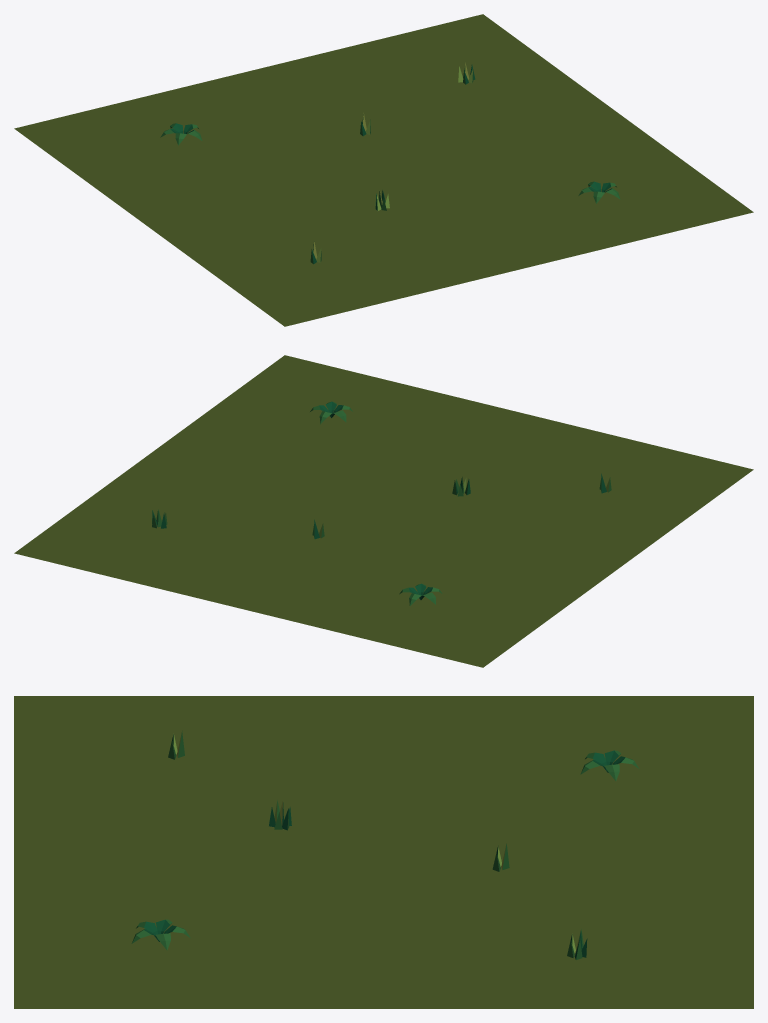
File: TB_Env_GroundBA.FBX
3 renders of one model, top to bottom at view 1: azimuth 30°, elevation 25°; view 2: azimuth 150°, elevation 25°; view 3: azimuth 270°, elevation 25°, orthographic. The views are drawn at different scales.
Parts seen in each view (by area): view 1: TB_Env_GroundBA; view 2: TB_Env_GroundBA; view 3: TB_Env_GroundBA.
Part boxes in pixels (bbox=[...]): TB_Env_GroundBA: bbox=[14, 14, 753, 326]; TB_Env_GroundBA: bbox=[14, 355, 753, 667]; TB_Env_GroundBA: bbox=[14, 696, 753, 1008].
Bounding box in the file's own units: 10 × 0.394 × 10.
